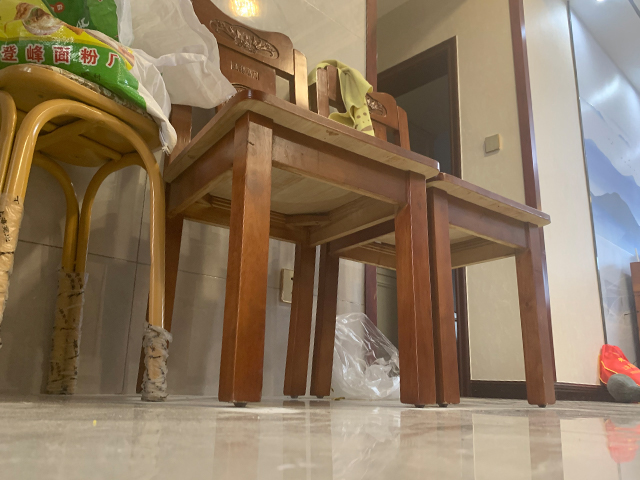stool: (161, 1, 436, 412), (309, 62, 558, 409), (1, 62, 171, 403)
